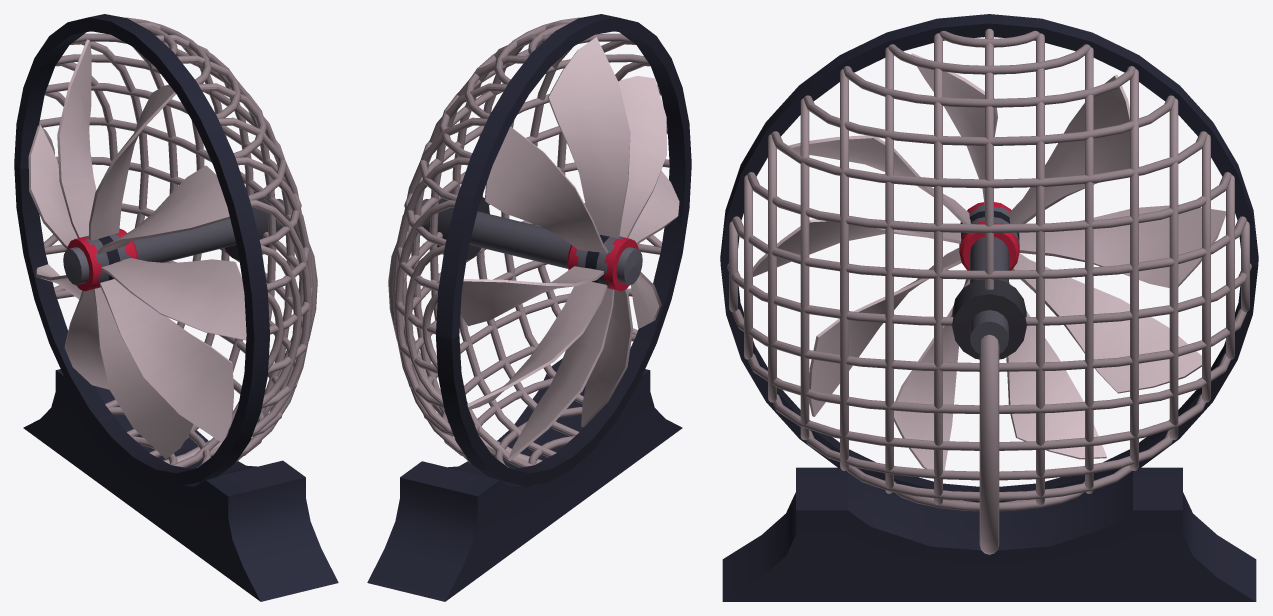
Rendered from SM_Ventilo.fbx.
The picture shows the model from 3 angles, left to right: view 1: azimuth 30°, elevation 25°; view 2: azimuth 150°, elevation 25°; view 3: azimuth 270°, elevation 25°; orthographic projection. The views are drawn at different scales.
Visible parts, largest first — view 1: Cylinder.008, Cylinder.005; view 2: Cylinder.008, Cylinder.005; view 3: Cylinder.008, Cylinder.005.
Part boxes in pixels (x1,y1,x2,y2): Cylinder.008: (14,14,338,601); Cylinder.005: (28,39,283,458); Cylinder.008: (367,14,691,601); Cylinder.005: (422,37,679,460); Cylinder.008: (720,14,1258,601); Cylinder.005: (753,53,1225,470).
Bounding box in the file's own units: 216 × 368 × 408.
